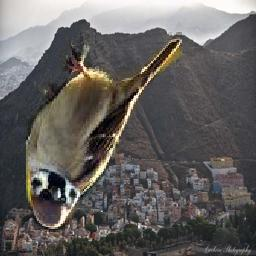Sparrow: (26, 32, 182, 232)
